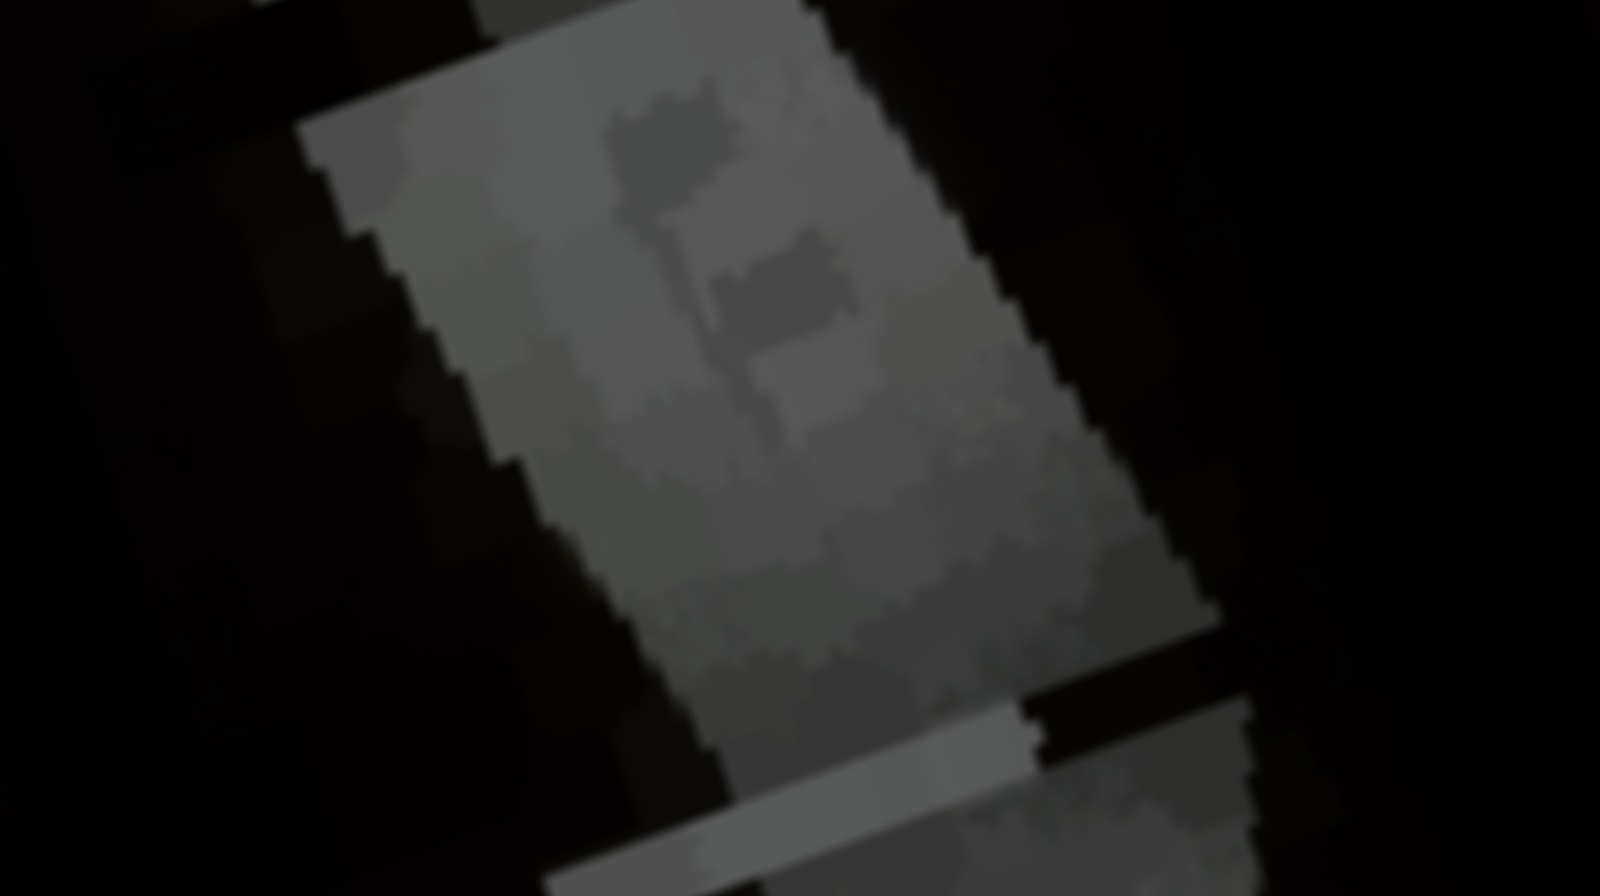S002: (574, 121, 843, 518)
